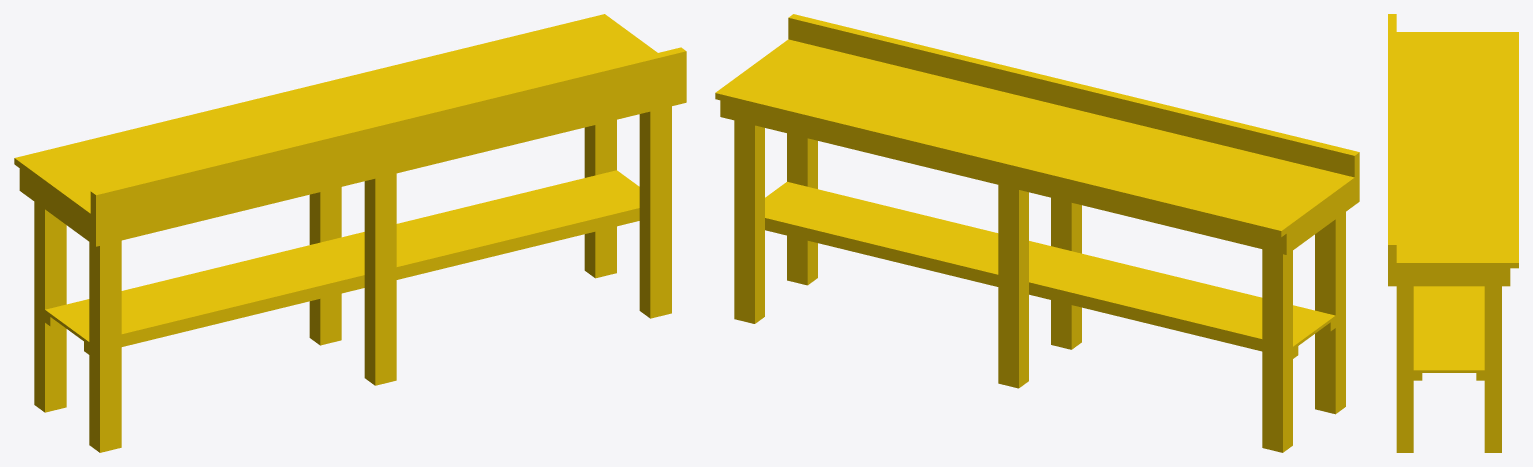
3 renders of one model, left to right at view 1: azimuth 30°, elevation 25°; view 2: azimuth 150°, elevation 25°; view 3: azimuth 270°, elevation 25°, orthographic. The views are drawn at different scales.
Visible parts, largest first — view 1: mesh1_mesh1-geometry, mesh29_mesh29-geometry, mesh23_mesh23-geometry, mesh17_mesh17-geometry, mesh21_mesh21-geometry, mesh19_mesh19-geometry, mesh7_mesh7-geometry, mesh3_mesh3-geometry, mesh27_mesh27-geometry, mesh11_mesh11-geometry, mesh5_mesh5-geometry, mesh13_mesh13-geometry; view 2: mesh1_mesh1-geometry, mesh29_mesh29-geometry, mesh23_mesh23-geometry, mesh9_mesh9-geometry, mesh3_mesh3-geometry, mesh5_mesh5-geometry, mesh11_mesh11-geometry, mesh21_mesh21-geometry, mesh25_mesh25-geometry, mesh7_mesh7-geometry, mesh19_mesh19-geometry, mesh13_mesh13-geometry; view 3: mesh1_mesh1-geometry, mesh29_mesh29-geometry, mesh11_mesh11-geometry, mesh19_mesh19-geometry, mesh23_mesh23-geometry, mesh15_mesh15-geometry, mesh17_mesh17-geometry, mesh9_mesh9-geometry.
Boxes of the visible parts, box(x1,y1,x2,y2) form: mesh1_mesh1-geometry: box(14, 14, 686, 224); mesh29_mesh29-geometry: box(45, 170, 639, 344); mesh23_mesh23-geometry: box(90, 47, 686, 217); mesh17_mesh17-geometry: box(90, 80, 686, 246); mesh21_mesh21-geometry: box(89, 240, 121, 452); mesh19_mesh19-geometry: box(639, 106, 671, 318); mesh7_mesh7-geometry: box(364, 173, 396, 385); mesh3_mesh3-geometry: box(34, 202, 66, 412); mesh27_mesh27-geometry: box(84, 211, 639, 354); mesh11_mesh11-geometry: box(584, 119, 616, 278); mesh5_mesh5-geometry: box(309, 187, 341, 345); mesh13_mesh13-geometry: box(25, 172, 90, 242); mesh1_mesh1-geometry: box(715, 39, 1359, 237); mesh29_mesh29-geometry: box(765, 181, 1335, 349); mesh23_mesh23-geometry: box(788, 14, 1359, 177); mesh9_mesh9-geometry: box(720, 100, 1291, 254); mesh3_mesh3-geometry: box(1262, 249, 1292, 452); mesh5_mesh5-geometry: box(998, 185, 1028, 388); mesh11_mesh11-geometry: box(734, 120, 764, 323); mesh21_mesh21-geometry: box(1315, 212, 1345, 414); mesh25_mesh25-geometry: box(765, 221, 1298, 358); mesh7_mesh7-geometry: box(1051, 197, 1081, 349); mesh19_mesh19-geometry: box(787, 133, 817, 285); mesh13_mesh13-geometry: box(1291, 184, 1354, 250); mesh1_mesh1-geometry: box(1388, 32, 1518, 268); mesh29_mesh29-geometry: box(1413, 286, 1484, 372); mesh11_mesh11-geometry: box(1484, 286, 1501, 452); mesh19_mesh19-geometry: box(1396, 286, 1413, 452); mesh23_mesh23-geometry: box(1388, 14, 1396, 262); mesh15_mesh15-geometry: box(1396, 268, 1501, 286); mesh17_mesh17-geometry: box(1388, 268, 1396, 286); mesh9_mesh9-geometry: box(1502, 268, 1510, 286).
Bounding box in the file's own units: 0.8981 × 0.3836 × 0.2152.
